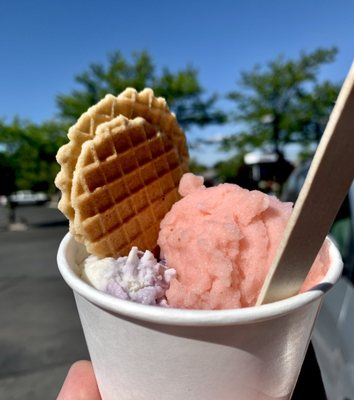sushi: (56, 107, 339, 400)
